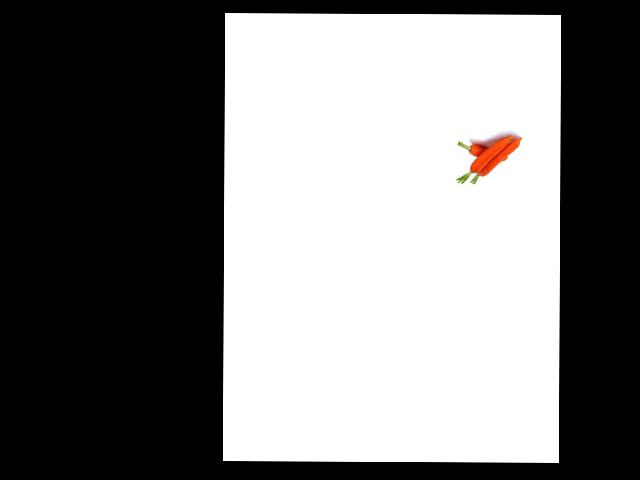carrot: (460, 143, 513, 163)
